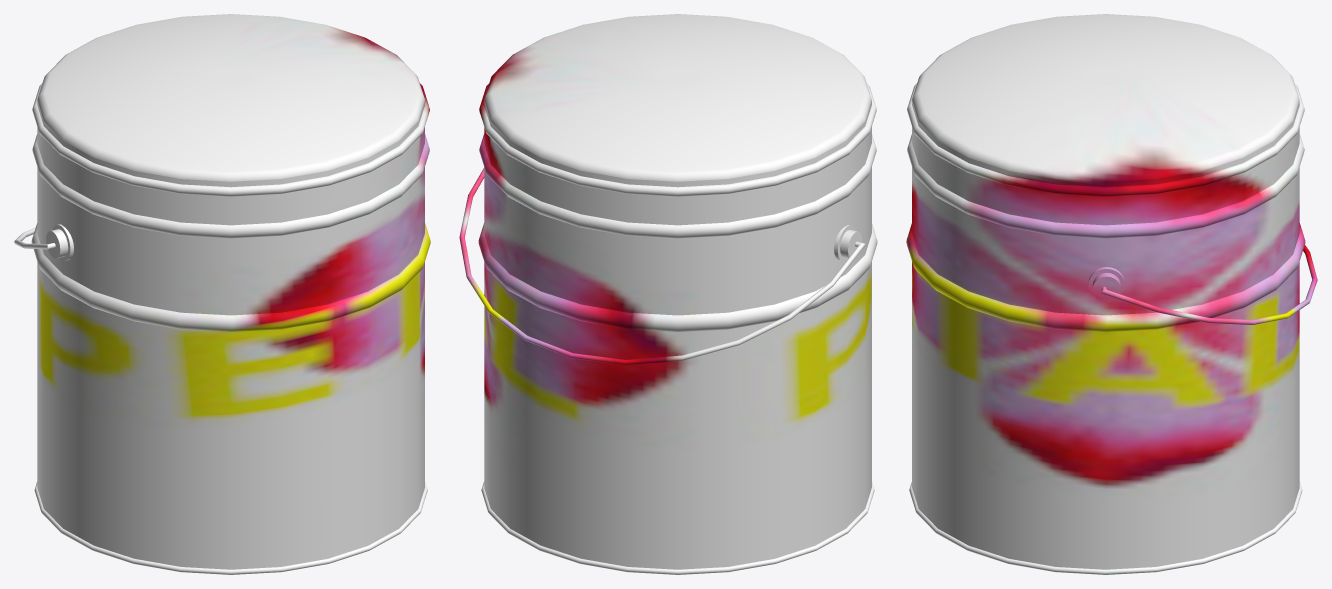
Rendered from baril-fixe.glb.
3 views of the same model, side by side, from view 1: azimuth 30°, elevation 25°; view 2: azimuth 150°, elevation 25°; view 3: azimuth 270°, elevation 25° (orthographic).
Visible parts, largest first — view 1: baril; view 2: baril; view 3: baril.
Boxes of the visible parts, bbox=[...] form: baril: bbox=[14, 14, 430, 574]; baril: bbox=[459, 14, 877, 574]; baril: bbox=[906, 14, 1317, 574].
Bounding box in the file's own units: 0.0826 × 0.0882 × 0.0789.
Materials: 1 (1 with a texture image).
